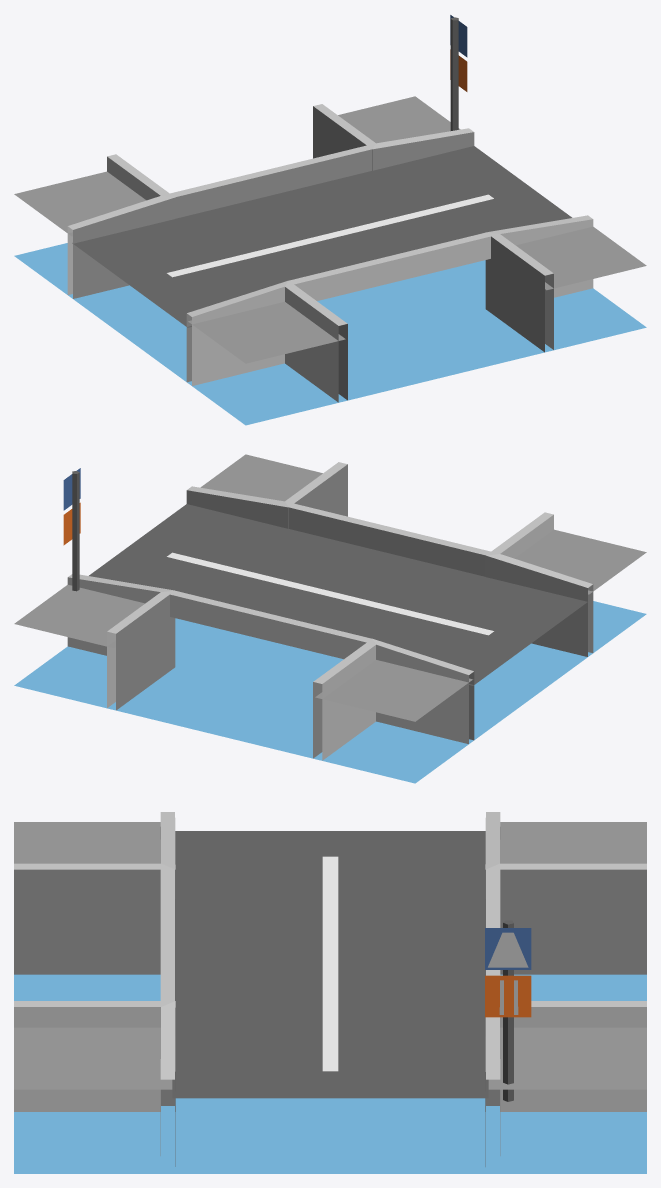
Rendered from Bridge_Tile_1.fbx.
The picture shows the model from 3 angles, top to bottom: view 1: azimuth 30°, elevation 25°; view 2: azimuth 150°, elevation 25°; view 3: azimuth 270°, elevation 25°; orthographic projection. The views are drawn at different scales.
Visible parts, largest first — view 1: Bridge_Road_1, Bridge_Sign_1; view 2: Bridge_Road_1, Bridge_Sign_1; view 3: Bridge_Road_1, Bridge_Sign_1.
Part boxes in pixels (x1,y1,x2,y2): Bridge_Road_1: (14, 96, 646, 425); Bridge_Sign_1: (450, 15, 467, 130); Bridge_Road_1: (14, 454, 646, 783); Bridge_Sign_1: (63, 468, 80, 591); Bridge_Road_1: (14, 812, 646, 1173); Bridge_Sign_1: (485, 920, 531, 1101).
Bounding box in the file's own units: 4 × 1.7 × 4.
